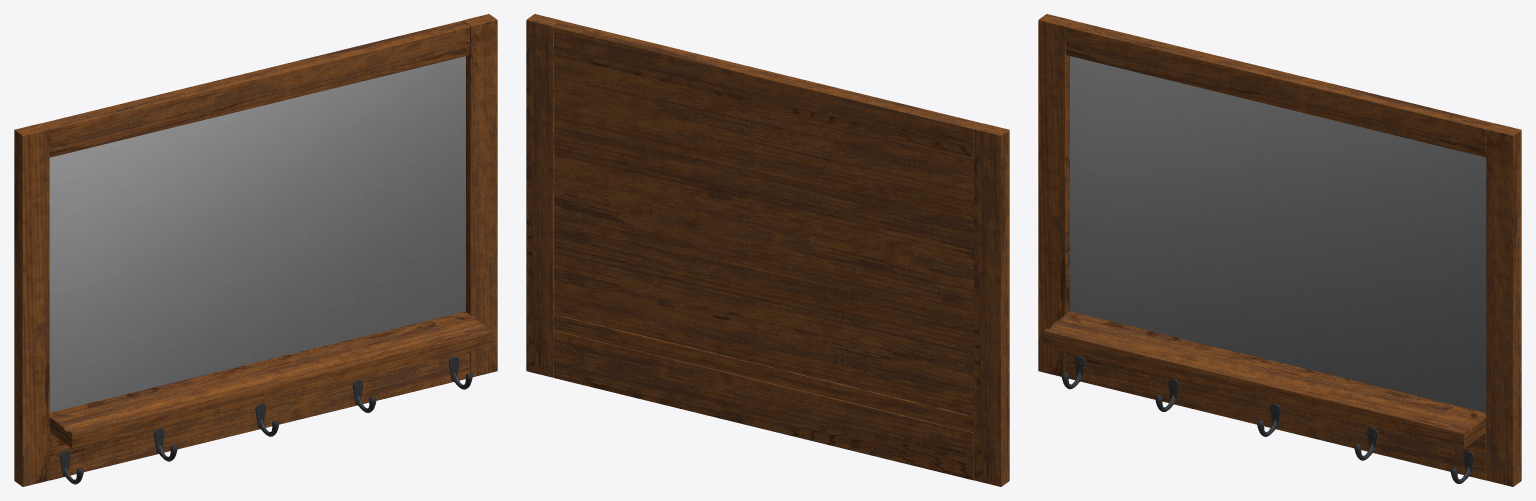
File: abo-B07B8WZQMY.glb
3 renders of one model, left to right at view 1: azimuth 30°, elevation 25°; view 2: azimuth 150°, elevation 25°; view 3: azimuth 330°, elevation 25°, orthographic.
Size of the model in its own units: 0.758 by 0.537 by 0.084.
1 material, 1 textured.
